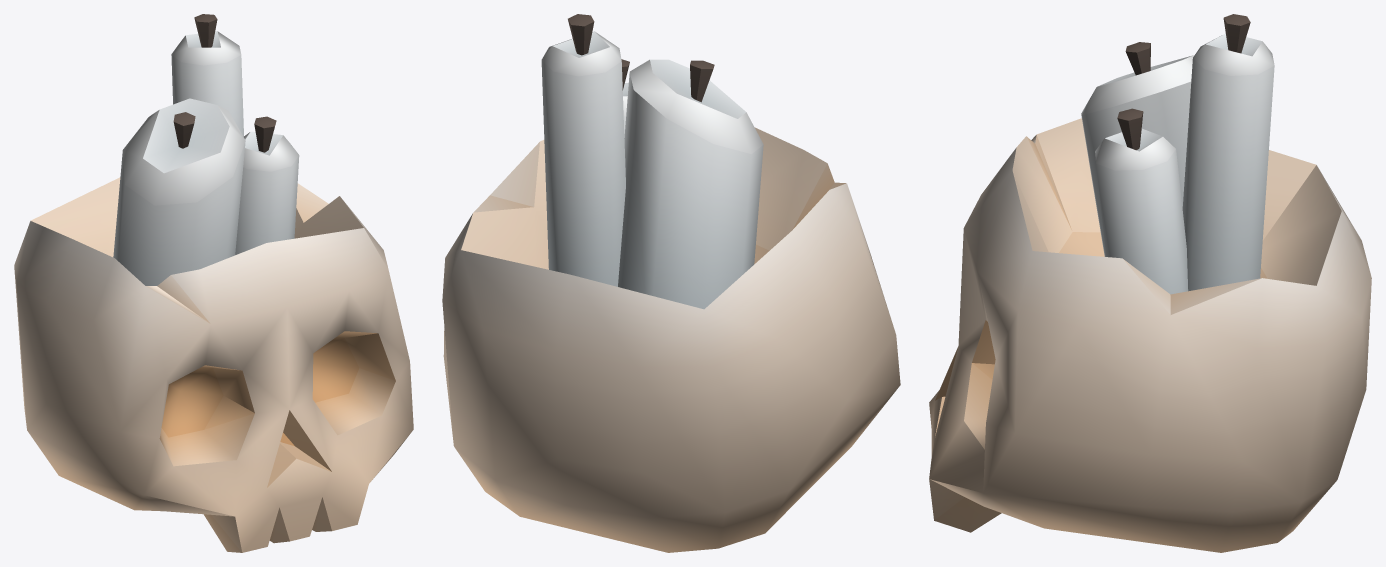
The model's file is cc0-skull-candle-lod1.glb.
The picture shows the model from 3 angles, left to right: view 1: azimuth 30°, elevation 25°; view 2: azimuth 150°, elevation 25°; view 3: azimuth 270°, elevation 25°; orthographic projection. The views are drawn at different scales.
Visible parts, largest first — view 1: part_0; view 2: part_0; view 3: part_0.
Boxes of the visible parts, <box> form: part_0: <box>14,14,413,552</box>; part_0: <box>442,14,900,552</box>; part_0: <box>929,14,1371,552</box>.
Size of the model in its own units: 0.9176 by 1.18 by 0.9361.
1 material, 1 textured.
